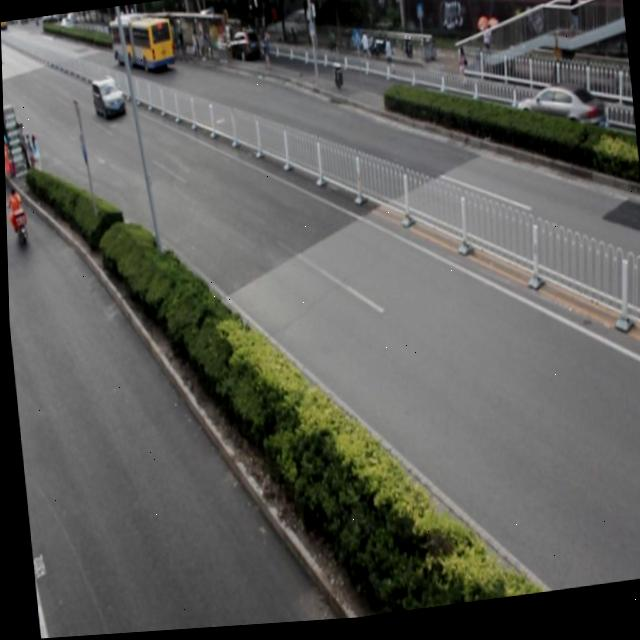car: (512, 85, 604, 154), (89, 75, 124, 124), (222, 29, 259, 67)
van: (105, 7, 175, 80)
